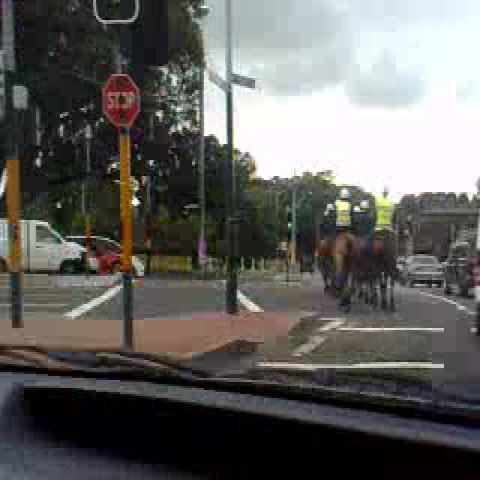car: (65, 237, 145, 276), (405, 256, 445, 286)
truck: (0, 217, 86, 277)
